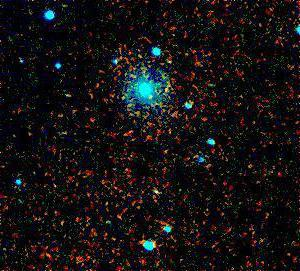star: (154, 72, 184, 102)
